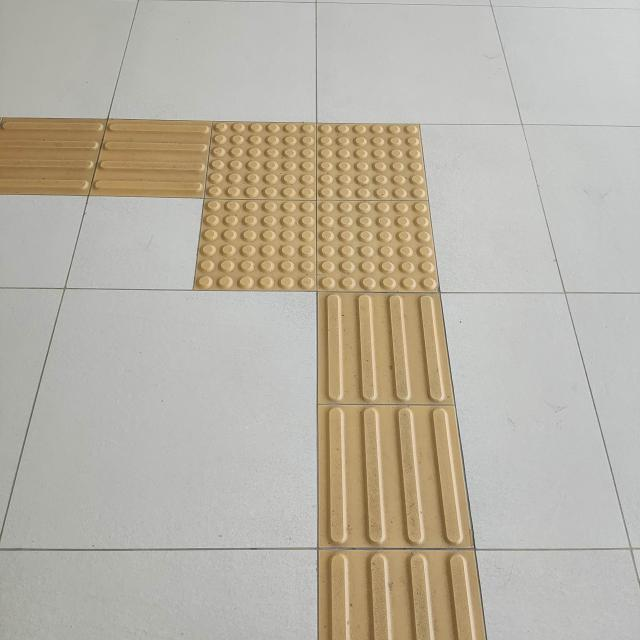kiri: (0, 52, 555, 411)
